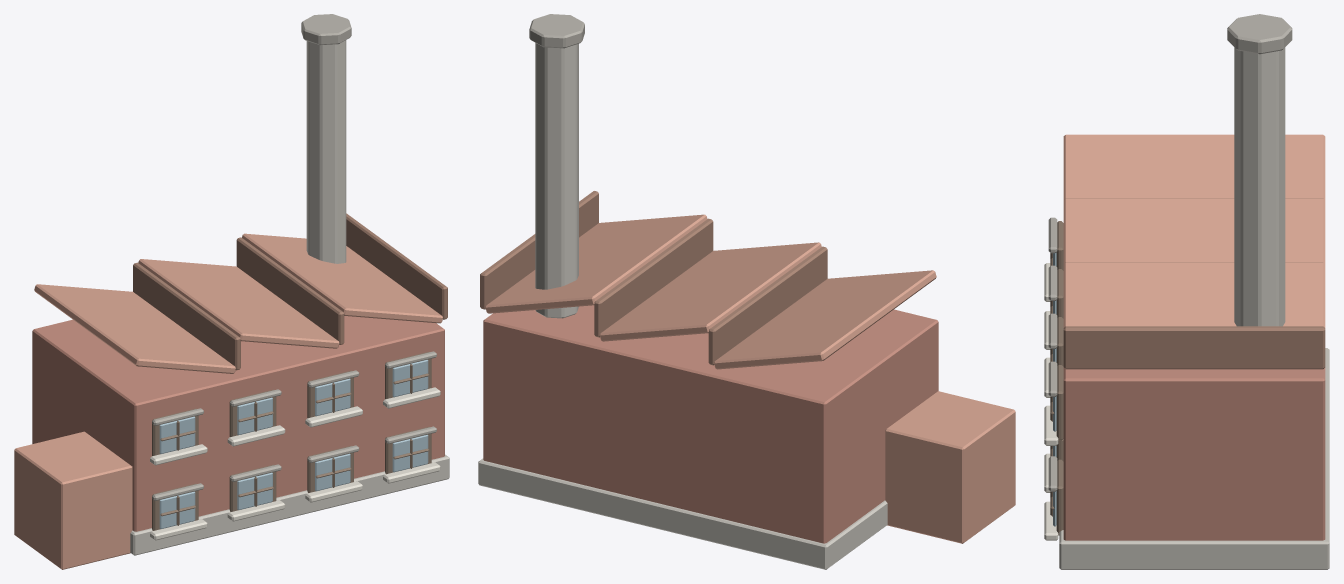
Rendered from factory_a.glb.
3 renders of one model, left to right at view 1: azimuth 30°, elevation 25°; view 2: azimuth 150°, elevation 25°; view 3: azimuth 270°, elevation 25°, orthographic. The views are drawn at different scales.
Visible parts, largest first — view 1: wall, shed, chimney, tooth, tooth.001, tooth.002, skirt, tooth_v.001, tooth_v, tooth_v.002, chimney_top, wglass (+15 smaller); view 2: wall, shed, chimney, skirt, tooth, tooth.001, tooth.002, tooth_v, tooth_v.001, tooth_v.002, chimney_top; view 3: wall, chimney, tooth.002, tooth.001, tooth, tooth_v.002, skirt, chimney_top, wframe.007, wframe.003, wsill.003, wsill.007.
Boxes of the visible parts, box(x1,y1,x2,y2) form: wall: box(32, 316, 444, 531); shed: box(14, 431, 132, 569); chimney: box(306, 40, 346, 263); tooth: box(34, 284, 235, 373); tooth.001: box(138, 259, 339, 348); tooth.002: box(242, 233, 442, 323); skirt: box(130, 454, 449, 555); tooth_v.001: box(236, 237, 344, 344); tooth_v: box(133, 262, 240, 370); tooth_v.002: box(346, 213, 447, 319); chimney_top: box(301, 14, 351, 45); wglass: box(159, 491, 195, 528); wall: box(483, 305, 938, 543); shed: box(885, 391, 1015, 543); chimney: box(535, 43, 578, 318); skirt: box(478, 458, 887, 569); tooth: box(714, 270, 936, 369); tooth.001: box(600, 242, 821, 341); tooth.002: box(485, 214, 707, 313); tooth_v: box(708, 246, 827, 365); tooth_v.001: box(594, 218, 713, 337); tooth_v.002: box(480, 191, 598, 309); chimney_top: box(529, 14, 584, 48); wall: box(1063, 368, 1325, 540); chimney: box(1234, 47, 1285, 326); tooth.002: box(1063, 262, 1325, 327); tooth.001: box(1063, 198, 1325, 263); tooth: box(1063, 134, 1325, 199); tooth_v.002: box(1063, 326, 1325, 369); skirt: box(1059, 348, 1329, 569); chimney_top: box(1227, 14, 1292, 54); wframe.007: box(1056, 365, 1063, 440); wframe.003: box(1056, 459, 1063, 535); wsill.003: box(1044, 501, 1058, 540); wsill.007: box(1044, 406, 1058, 445).
Bounding box in the file's own units: 3.23 × 3.27 × 1.63.
